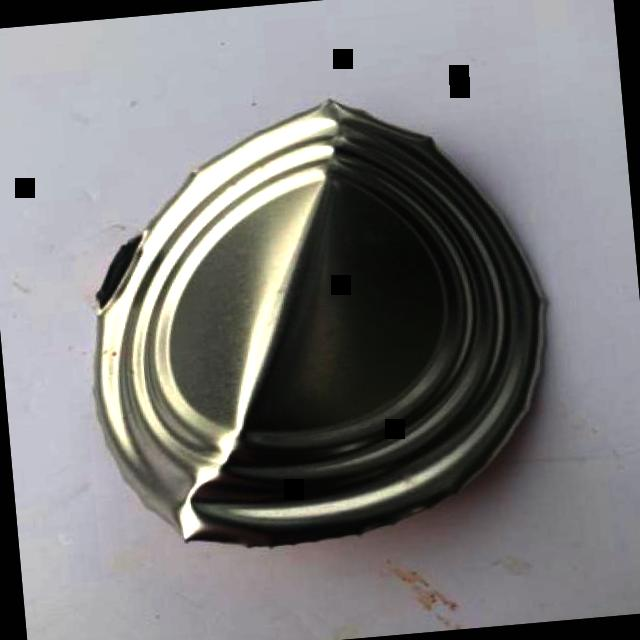can: (66, 74, 572, 564)
